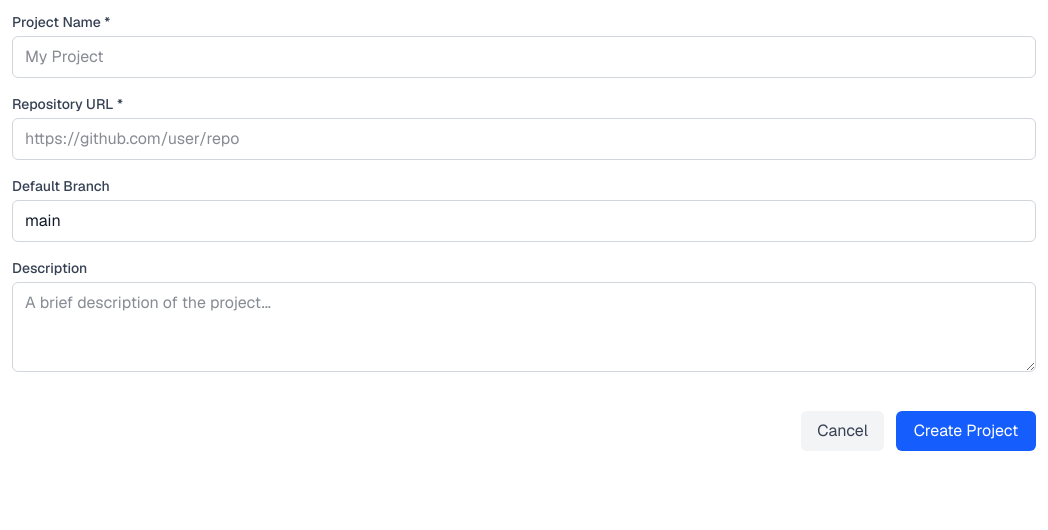
Scenario: ProjectForm › Create mode › should display API error on creation failure
Step 1. Type "New Project" into the field labelled "Project Name *" → (524, 57), box [12, 36, 1036, 78]
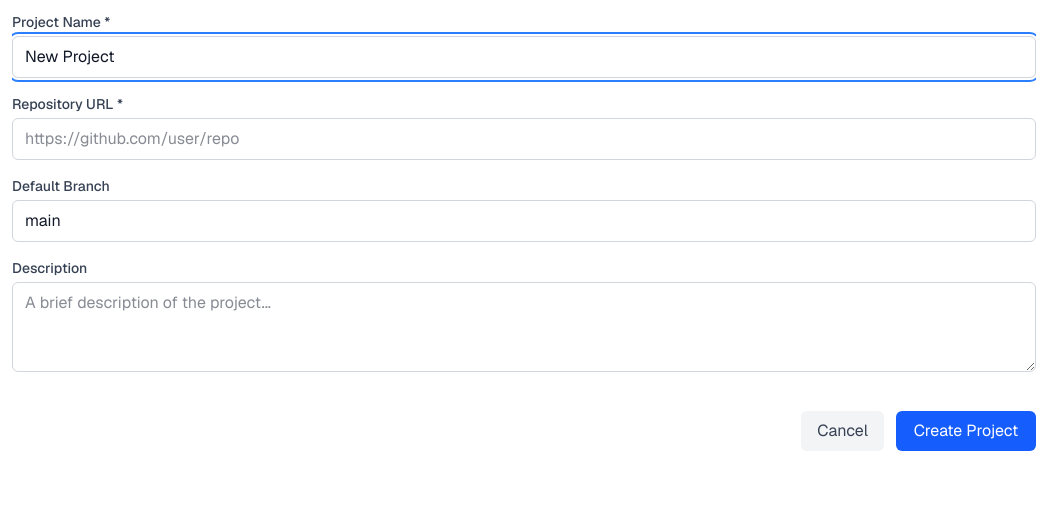
Step 2. Type "https://github.com/user/existing-repo" into the field labelled "Repository URL *" → (524, 139), box [12, 118, 1036, 160]
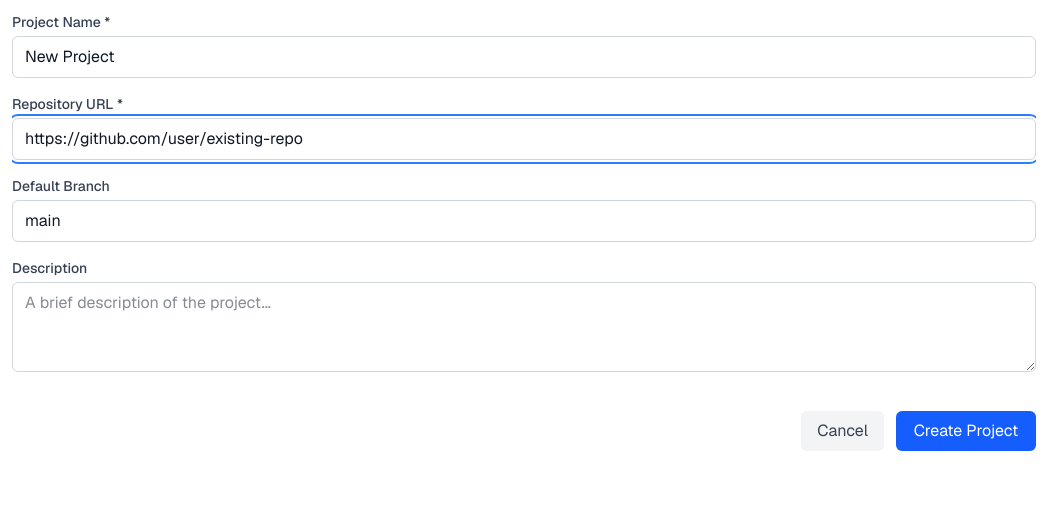
Step 3. Click the button "Create Project" → (966, 431), box [896, 411, 1036, 451]
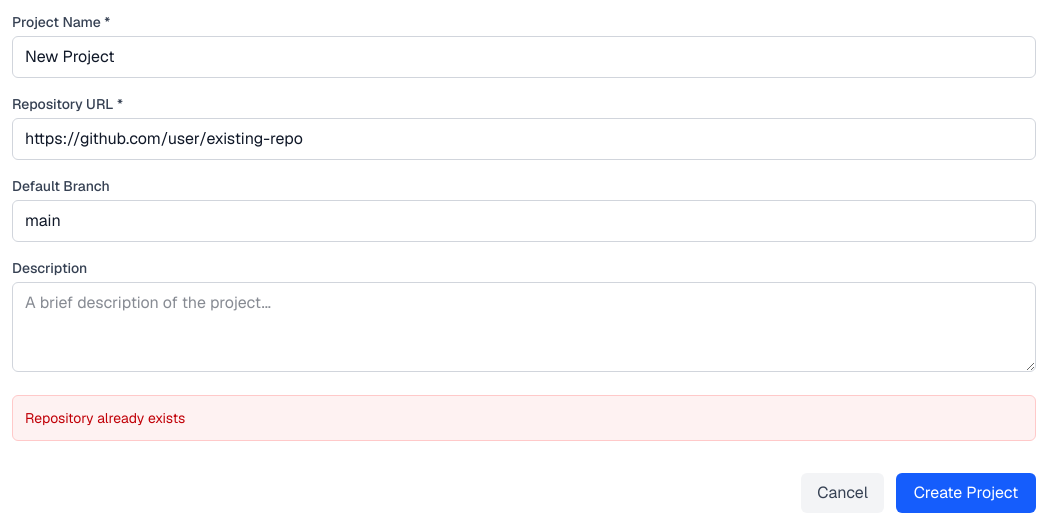
expect the text "Repository already exists" is shown: met, box [25, 409, 185, 427]
